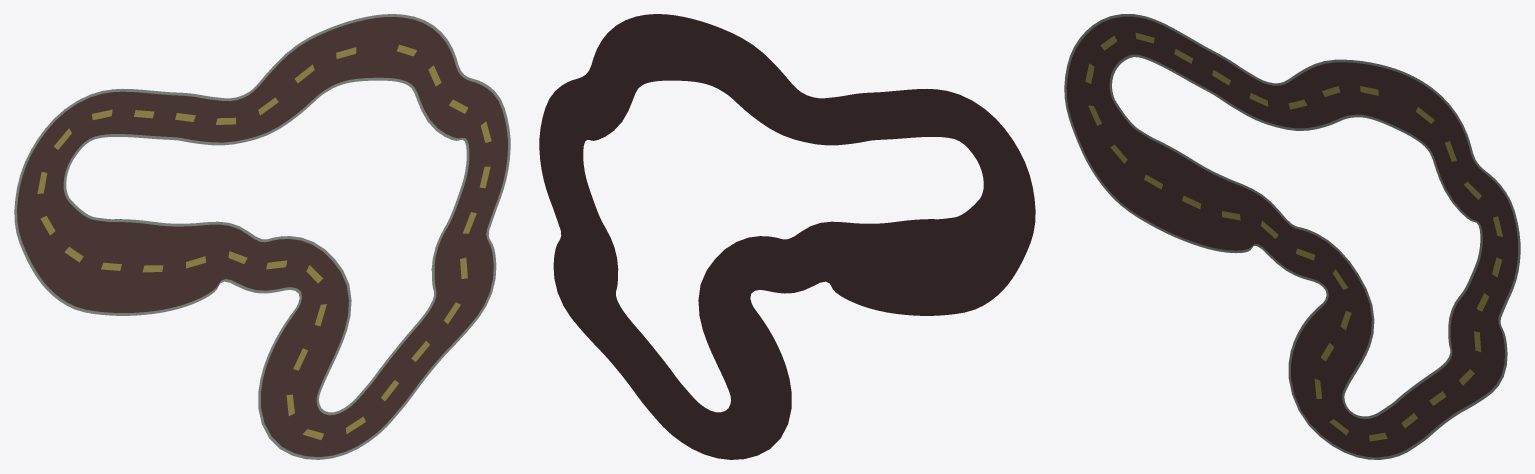
The model's file is track.obj.
3 renders of one model, left to right at view 1: azimuth 30°, elevation 25°; view 2: azimuth 150°, elevation 25°; view 3: azimuth 330°, elevation 25°, orthographic. The views are drawn at different scales.
Bounding box in the file's own units: 7.48 × 6.24 × 0.002.
3 materials, 3 textured.
